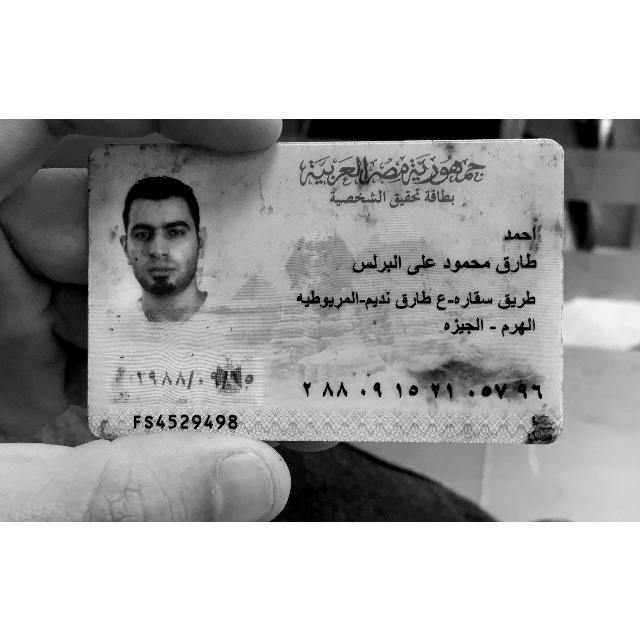id_card: (89, 142, 567, 440)
